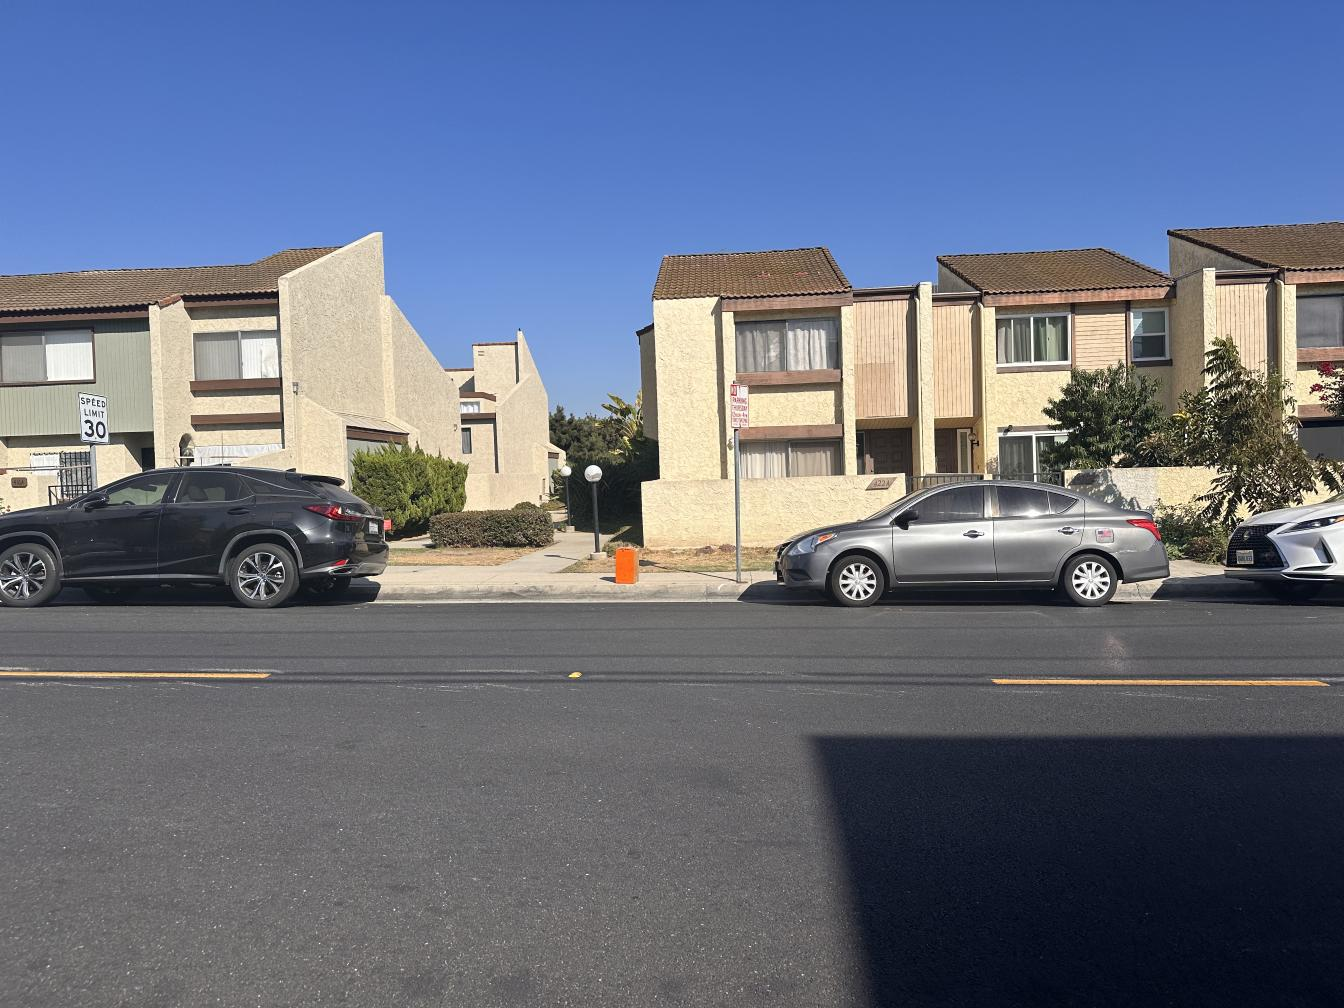curbs-laRr: (383, 580, 785, 607)
orange box: (612, 543, 644, 586)
